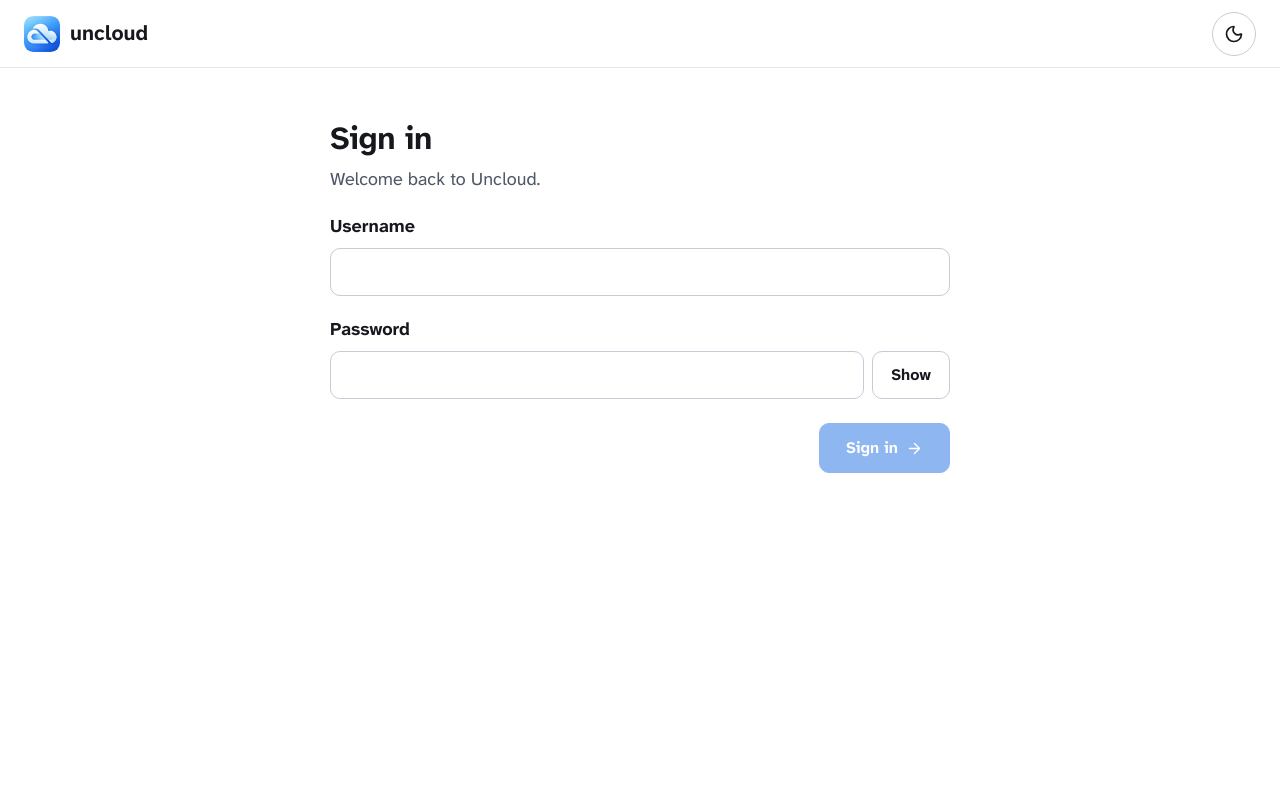
Test: arriving from the Uncloud menu's Settings link › opens Settings after signing in, and only that once
The image size is (1280, 800).
Type "ada" into the field labelled "Username" at (640, 272), box [330, 248, 950, 296]
Type "correct horse" into the password field labelled "Password" at (597, 375), box [330, 351, 864, 399]
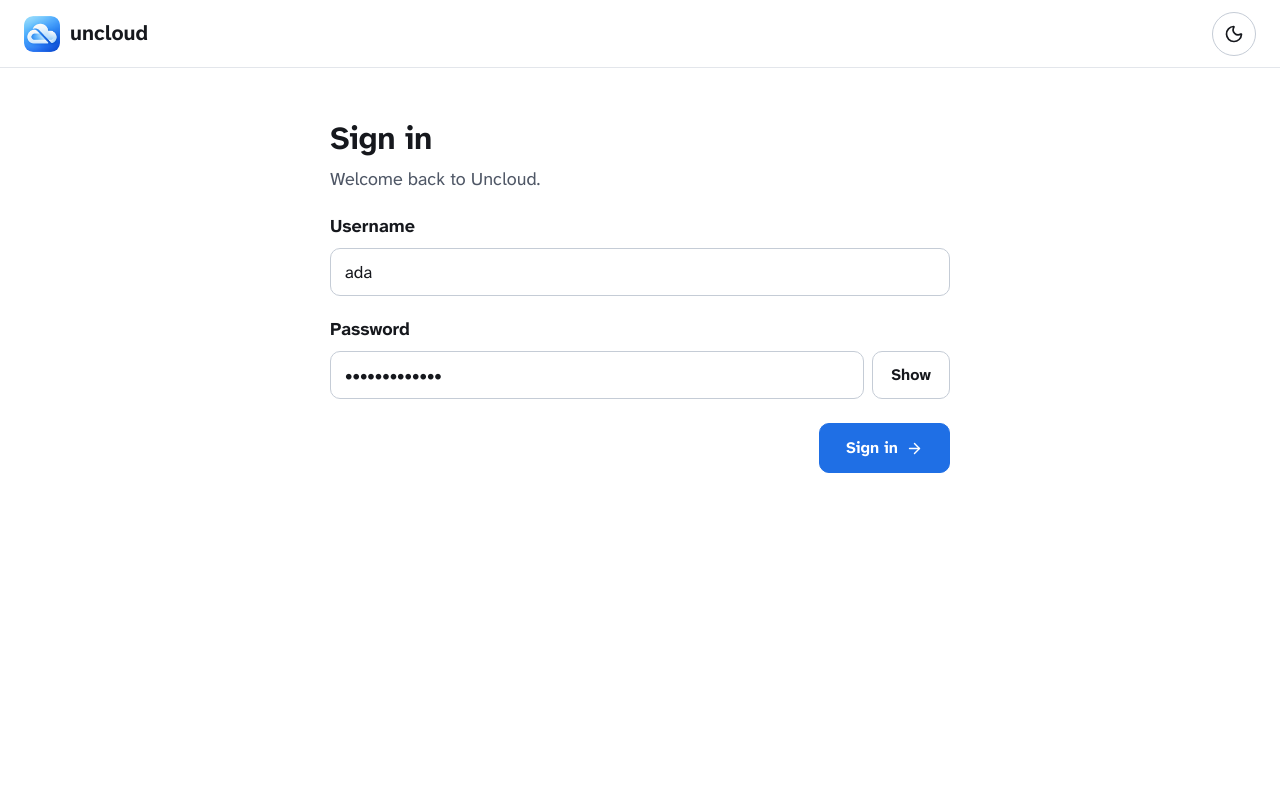
Submit the form labelled "Password", box [330, 120, 950, 473]
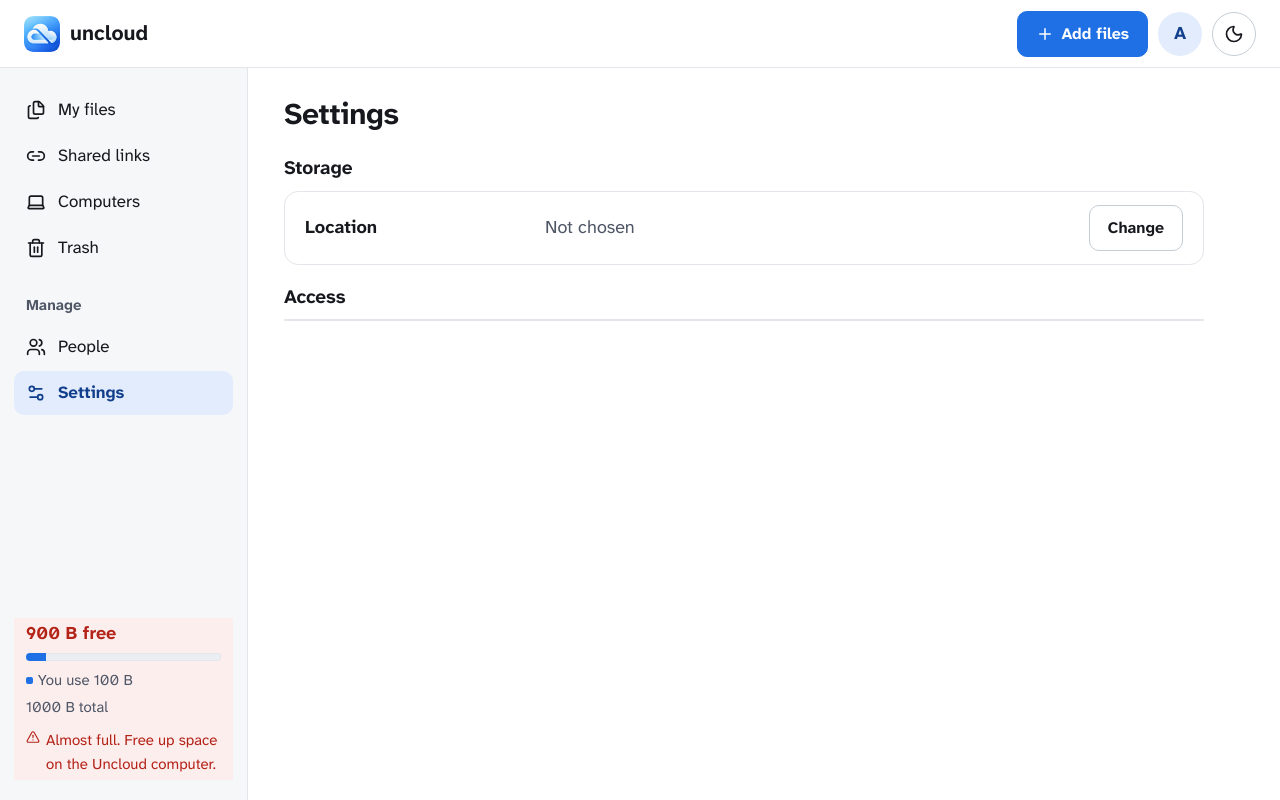
Expected: the heading "Settings" is shown, [284, 96, 398, 132]
Click the button named "Account:" at (1180, 34), box [1158, 12, 1202, 56]
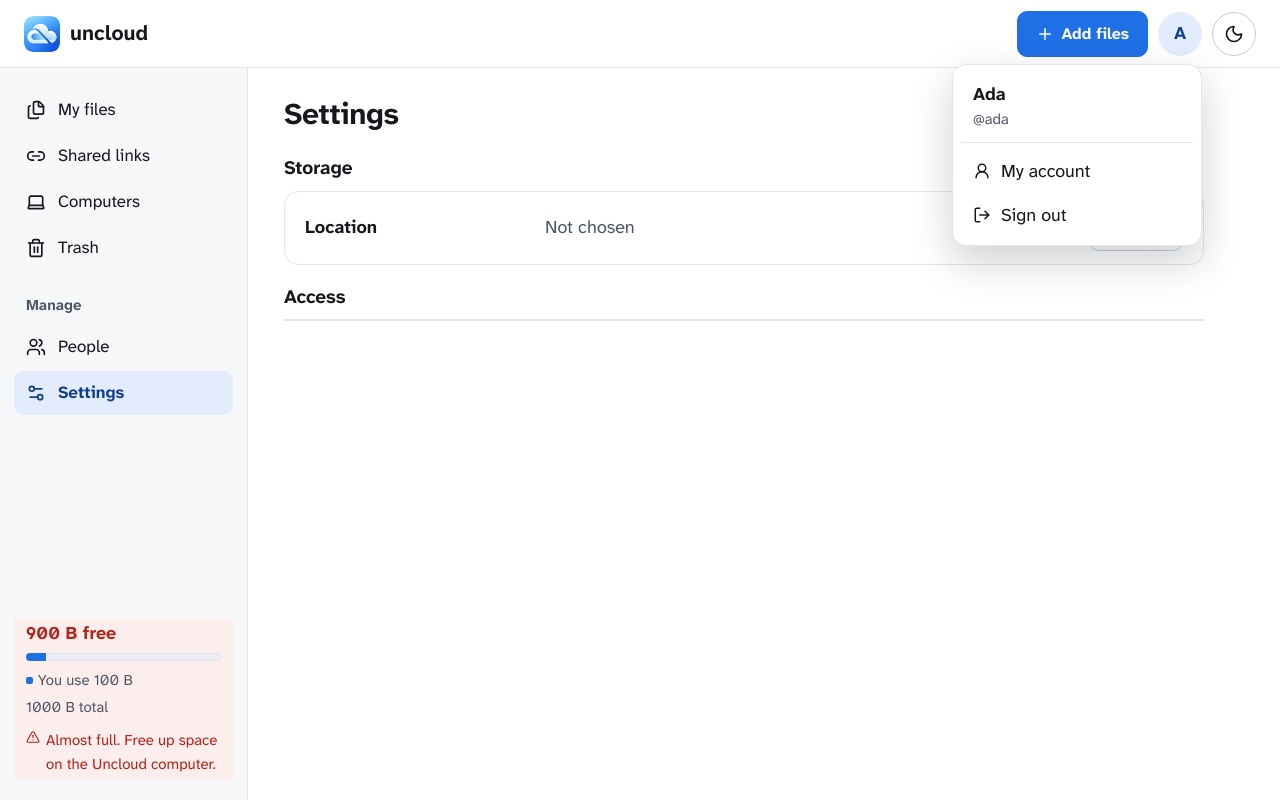
Click the menu item "Sign out" at (1077, 215), box [961, 193, 1193, 237]
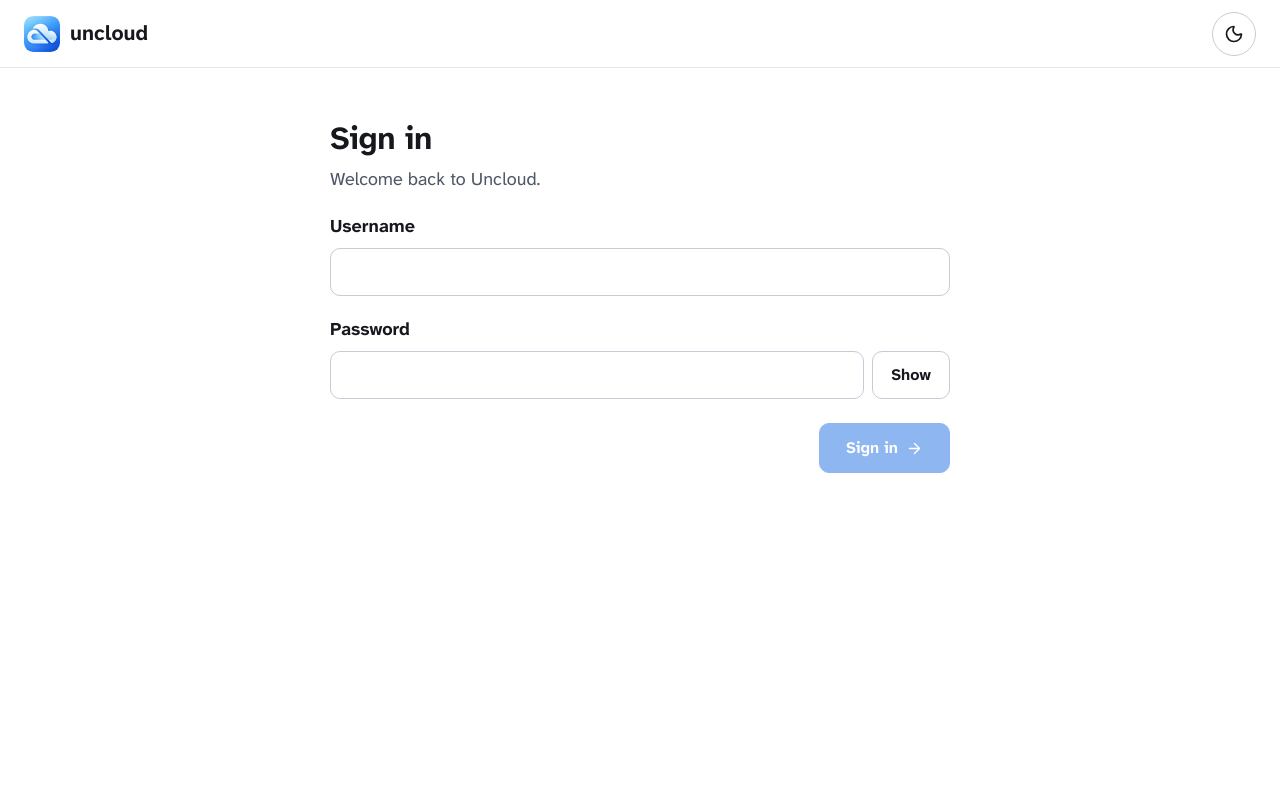
Type "ada" into the field labelled "Username" at (640, 272), box [330, 248, 950, 296]
Type "correct horse" into the password field labelled "Password" at (597, 375), box [330, 351, 864, 399]
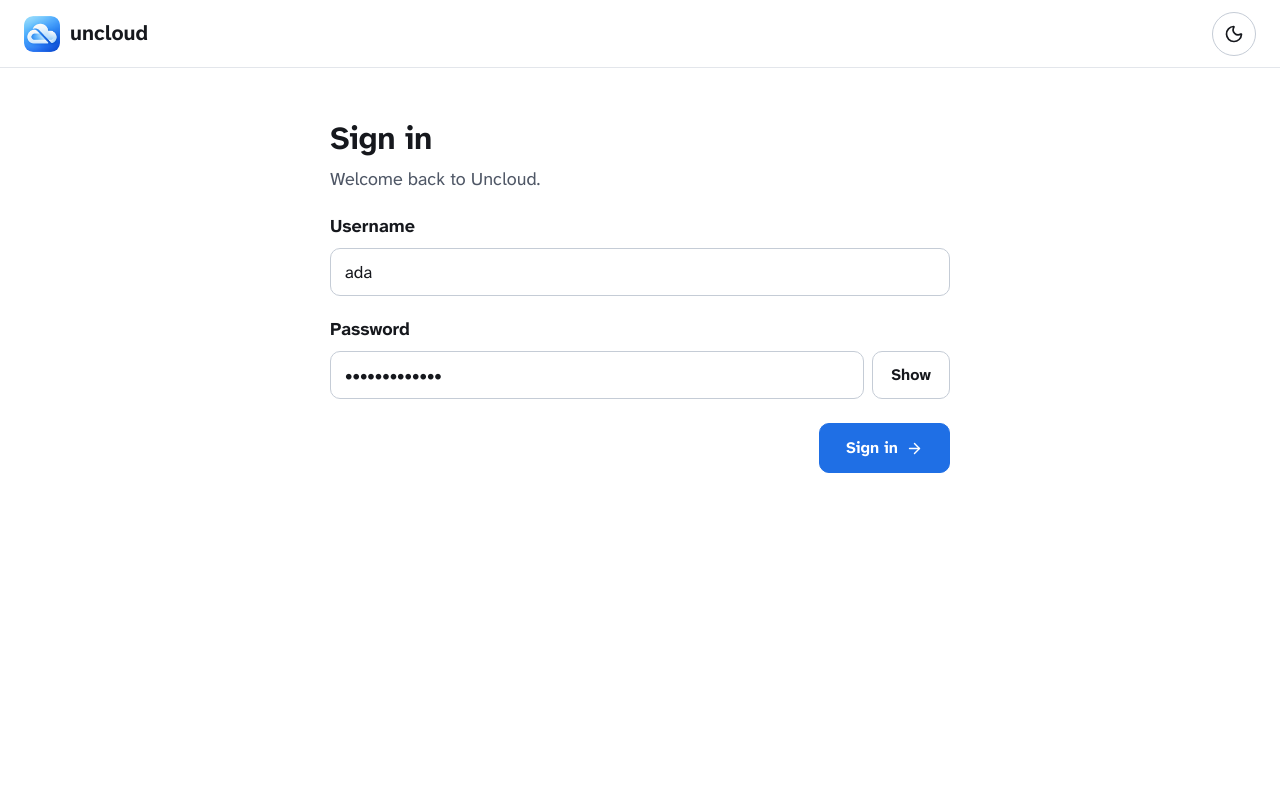
Submit the form labelled "Password", box [330, 120, 950, 473]
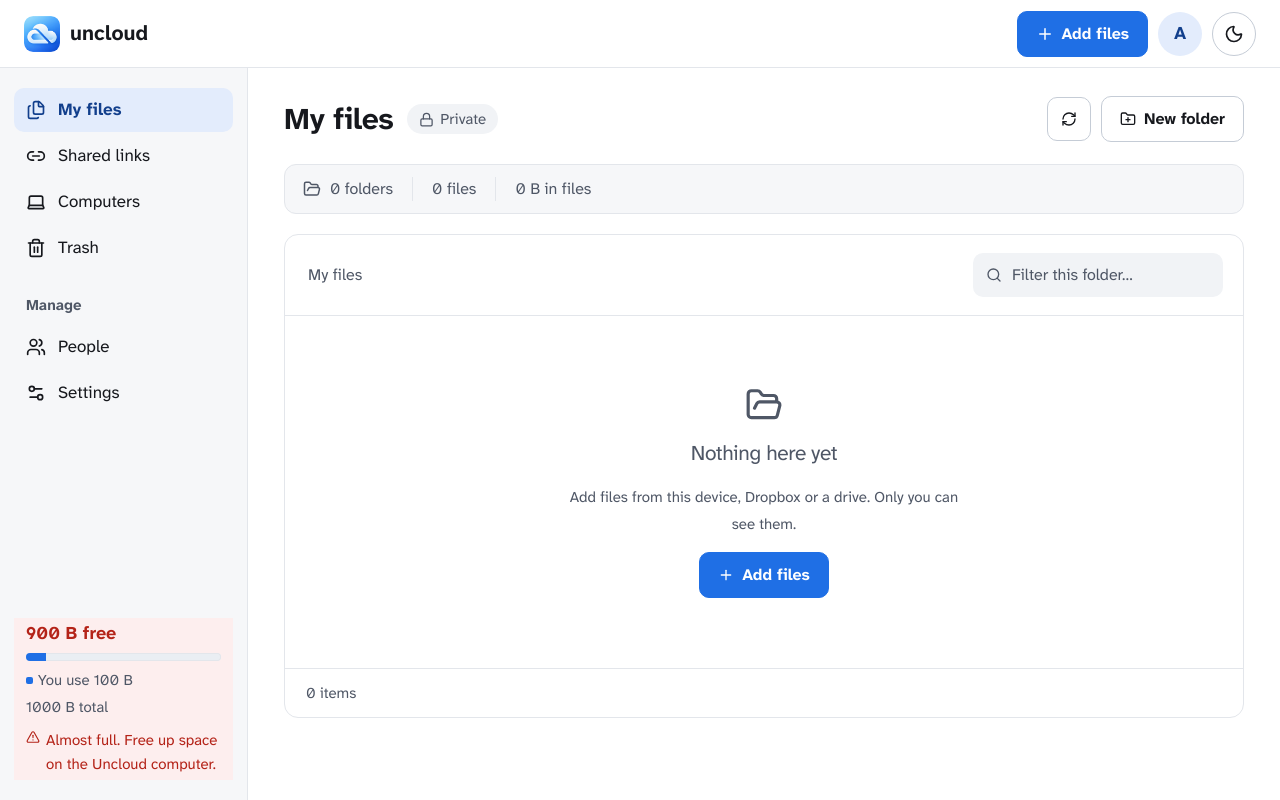
Expected: the heading "My files" is shown, [284, 101, 393, 137]
